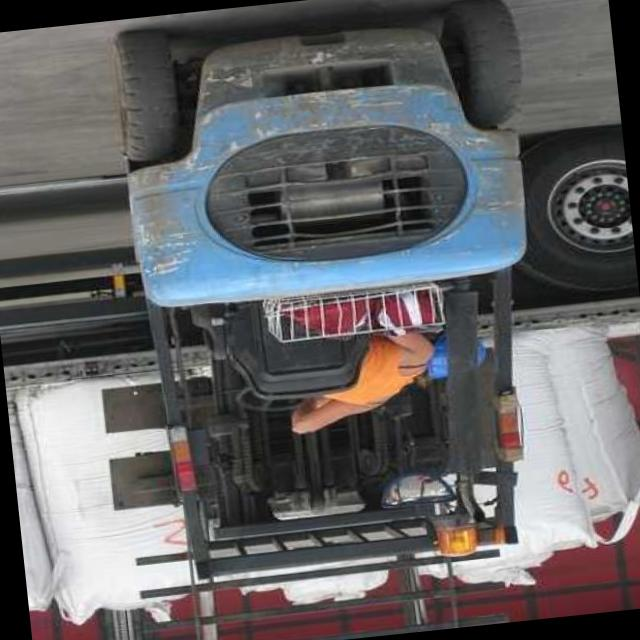driver: (240, 317, 482, 446)
forklift: (104, 0, 570, 598)
